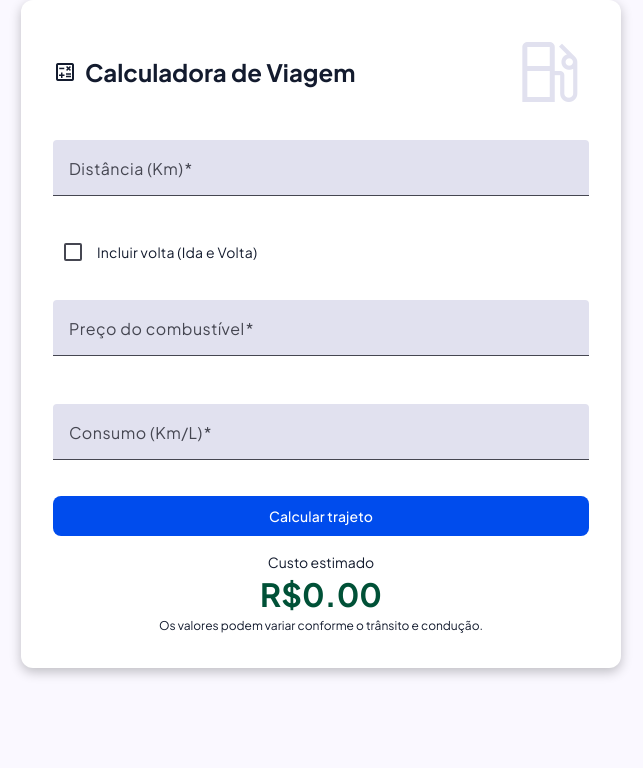
Test: HomeComponent › should reset result to 0 after submitting invalid form
Type "6.5" into the number field with test id "home-gasoline-price". click: (321, 336)
box: [69,324,573,348]
Type "10" into the number field with test id "home-distance-per-liter". click: (321, 440)
box: [69,428,573,452]
Type "100" into the number field labelled "Distância (Km)". click: (321, 176)
box: [69,164,573,188]
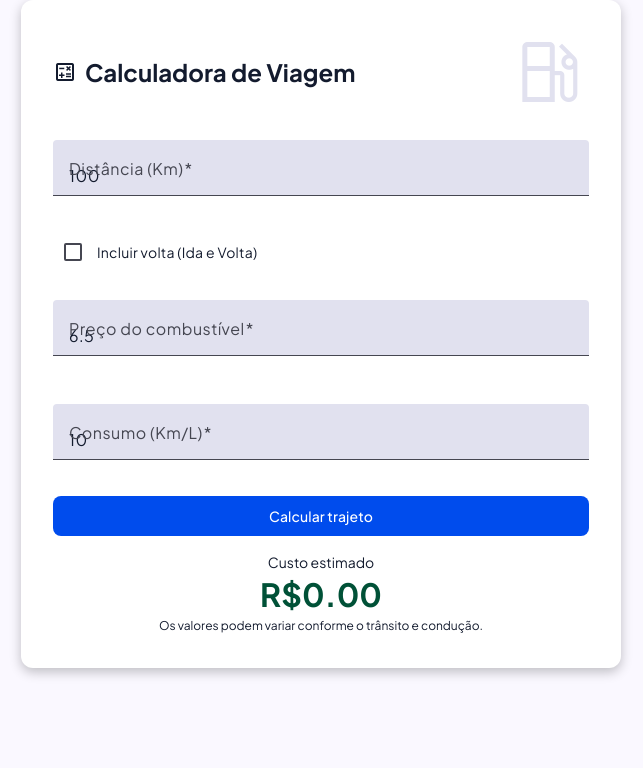
Submit the form, box [53,128,589,536]
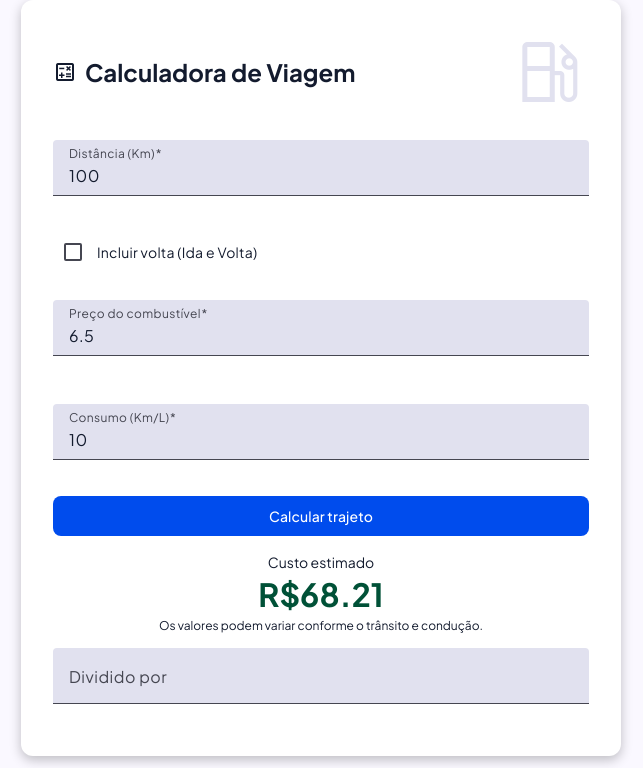
Expected: the text with test id "home-result" reads "R$68.21", [258,574,384,614]
Clear the number field with test id "home-gasoline-price". click: (321, 336)
box: [69,324,573,348]
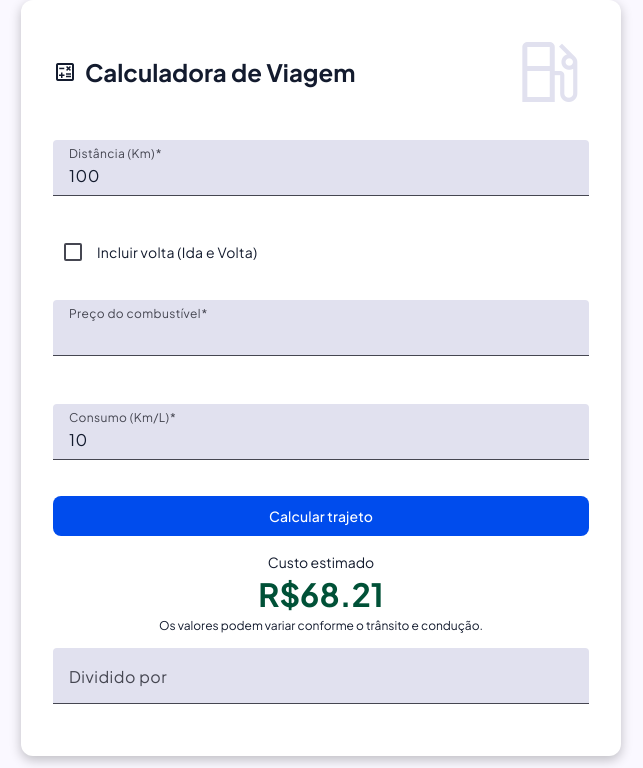
Clear the number field with test id "home-distance-per-liter". click: (321, 440)
box: [69,428,573,452]
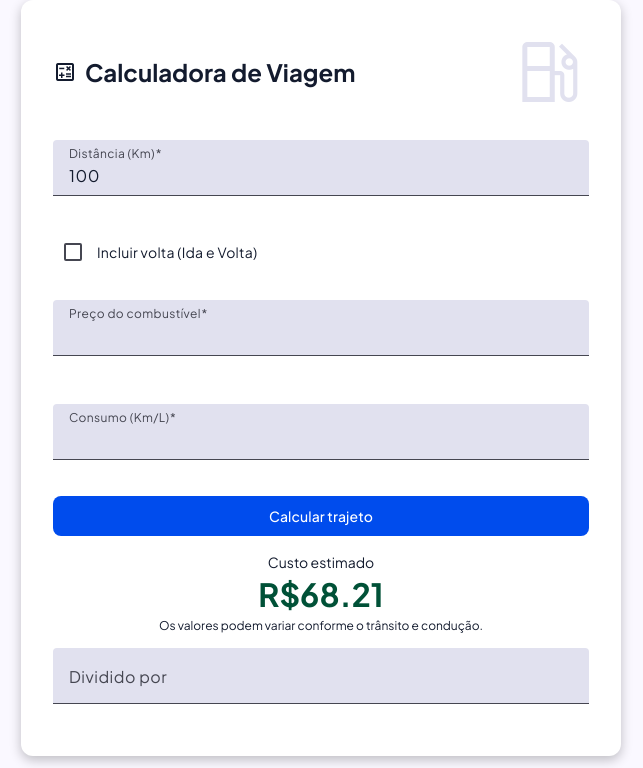
Clear the number field labelled "Distância (Km)". click: (321, 176)
box: [69,164,573,188]
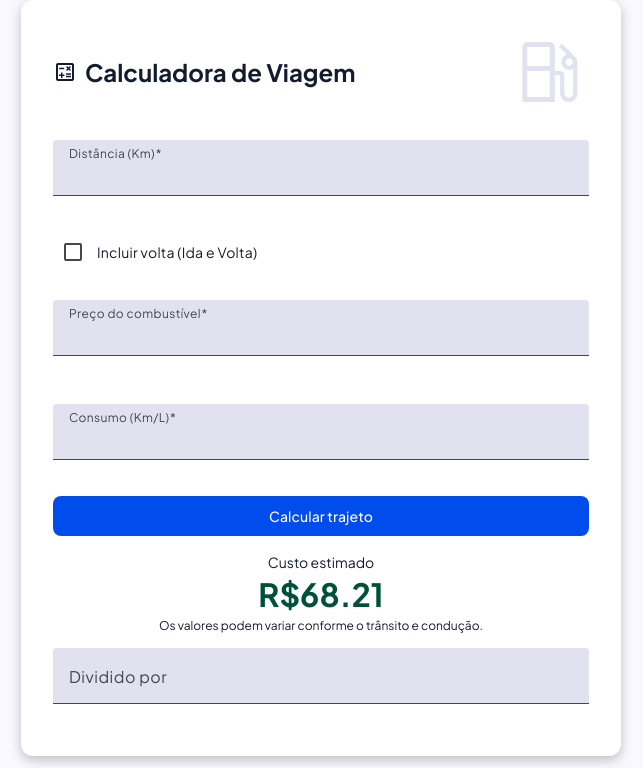
Submit the form, box [53,128,589,536]
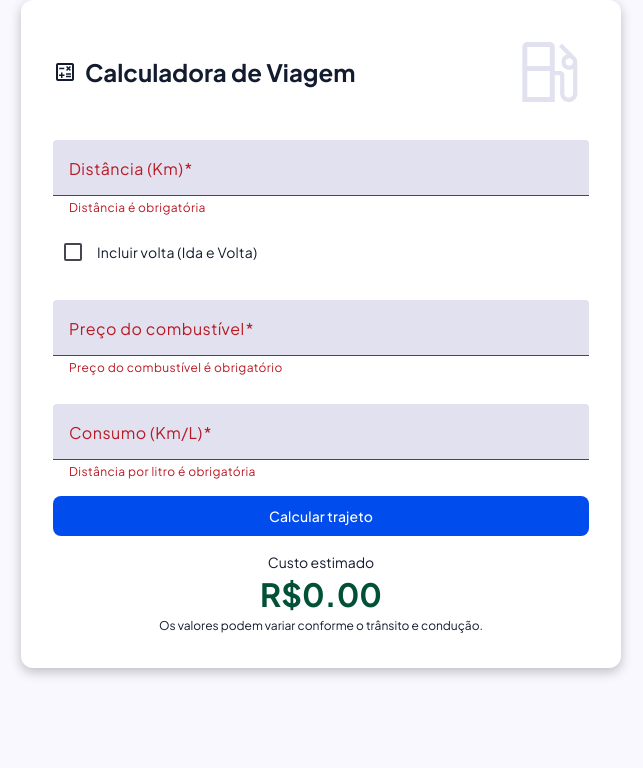
Expected: the text with test id "home-result" reads "R$0.00", [260,574,382,614]
